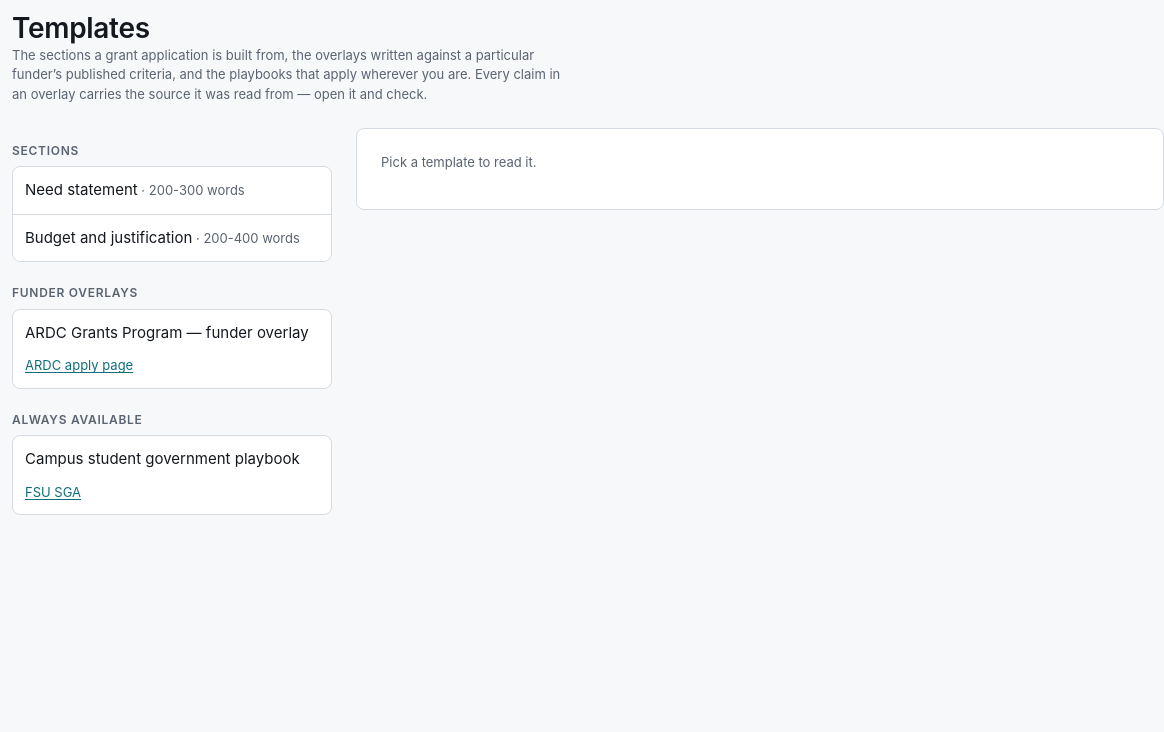
Scenario: TemplatesRoute › loads a template body when one is selected
Click the button "Need statement · 200-300 words" at (172, 191), box [13,168,331,214]
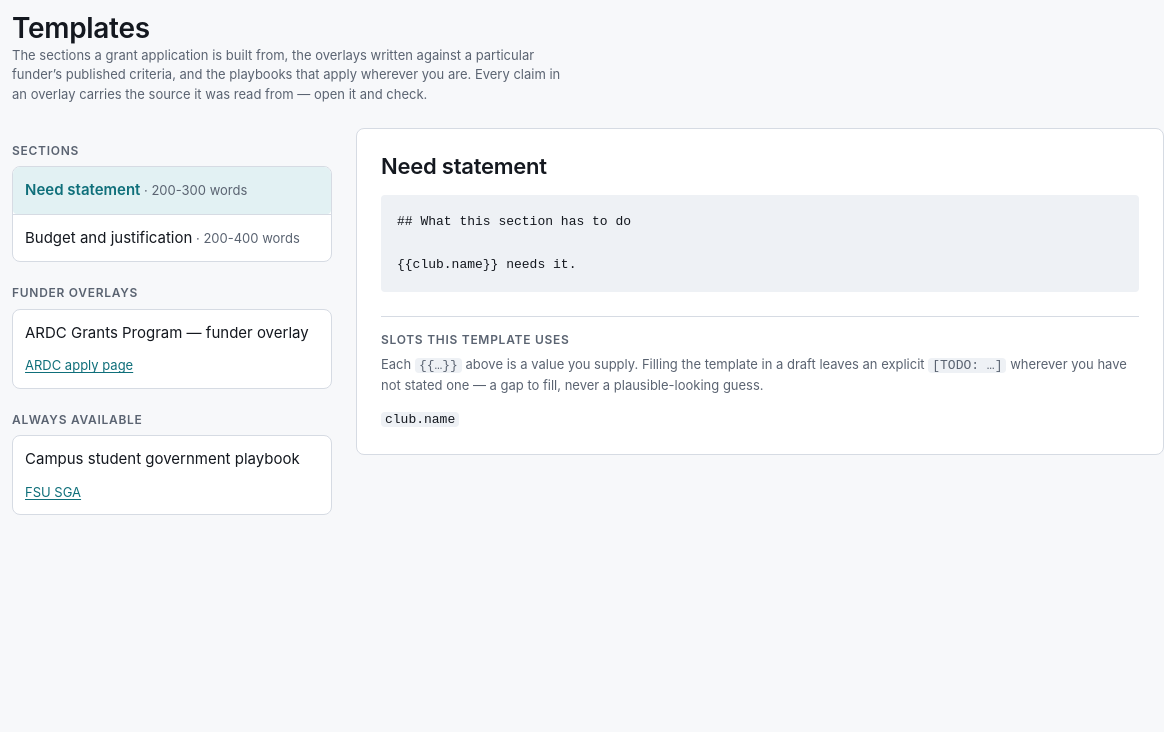
expect the text "## What this section has to do {{club.name}} needs it." is shown: met, box [381,196,1139,292]
